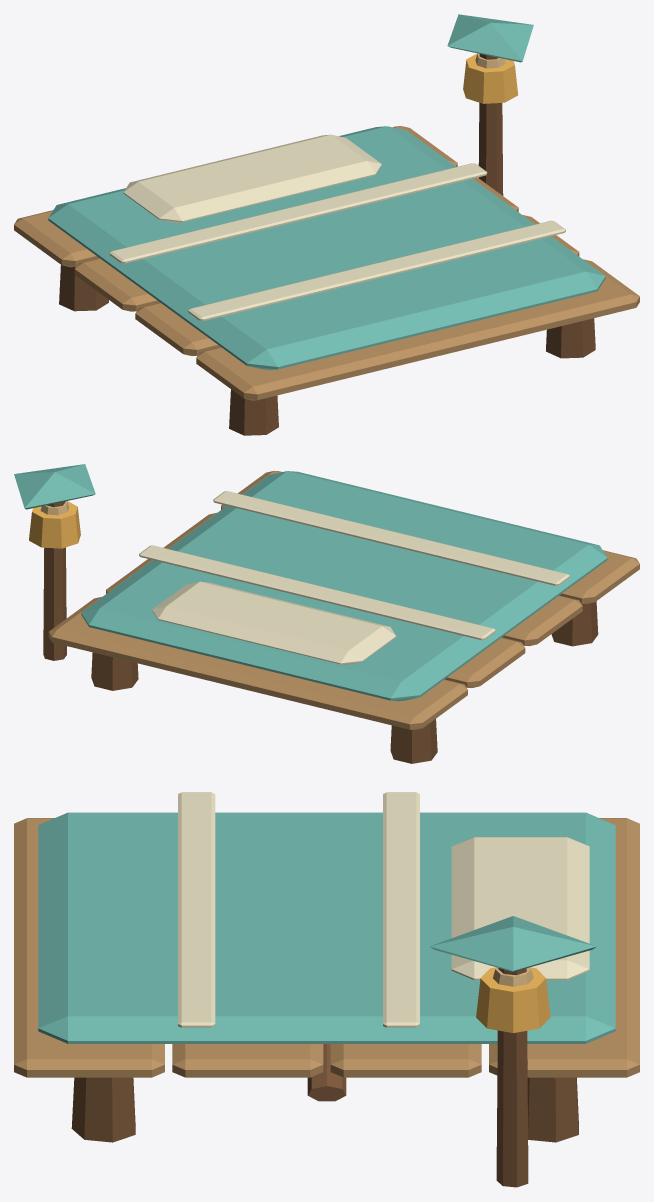
The model's file is CC_AnimalTreatment.fbx.
3 views of the same model, one above another, from view 1: azimuth 30°, elevation 25°; view 2: azimuth 150°, elevation 25°; view 3: azimuth 270°, elevation 25° (orthographic). The views are drawn at different scales.
Parts seen in each view (by area): view 1: Leaf mattress.001, Plank.004, Head cushion.001, Restraint strap, Restraint strap.001, Medical marker.001, Plank.007, Plank.006, Plank.005, Equipment pole.001, Medicine jar.001, Leg.004 (+2 smaller); view 2: Leaf mattress.001, Plank.007, Head cushion.001, Restraint strap.001, Restraint strap, Medical marker.001, Equipment pole.001, Plank.004, Plank.005, Plank.006, Medicine jar.001, Leg.005 (+2 smaller); view 3: Leaf mattress.001, Head cushion.001, Plank.004, Plank.007, Restraint strap, Restraint strap.001, Plank.005, Plank.006, Equipment pole.001, Medical marker.001, Leg.006, Medicine jar.001 (+2 smaller).
Boxes of the visible parts, bbox=[...] form: Leaf mattress.001: bbox=[48, 126, 605, 369]; Plank.004: bbox=[196, 259, 639, 400]; Head cushion.001: bbox=[123, 134, 381, 222]; Restraint strap: bbox=[188, 220, 565, 321]; Restraint strap.001: bbox=[109, 163, 487, 263]; Medical marker.001: bbox=[447, 14, 533, 62]; Plank.007: bbox=[14, 126, 457, 267]; Plank.006: bbox=[74, 177, 518, 311]; Plank.005: bbox=[135, 215, 579, 356]; Equipment pole.001: bbox=[478, 54, 503, 195]; Medicine jar.001: bbox=[463, 53, 518, 103]; Leg.004: bbox=[229, 389, 278, 435]; Leaf mattress.001: bbox=[81, 471, 607, 701]; Plank.007: bbox=[48, 596, 467, 729]; Head cushion.001: bbox=[152, 581, 396, 664]; Restraint strap.001: bbox=[139, 545, 495, 640]; Restraint strap: bbox=[213, 491, 569, 585]; Medical marker.001: bbox=[14, 464, 95, 509]; Equipment pole.001: bbox=[43, 501, 66, 660]; Plank.004: bbox=[221, 470, 639, 604]; Plank.005: bbox=[163, 512, 582, 645]; Plank.006: bbox=[106, 559, 525, 687]; Medicine jar.001: bbox=[29, 501, 80, 548]; Leg.005: bbox=[390, 719, 437, 763]; Leaf mattress.001: bbox=[38, 812, 615, 1043]; Head cushion.001: bbox=[451, 837, 589, 980]; Plank.004: bbox=[14, 818, 164, 1077]; Plank.007: bbox=[489, 818, 639, 1077]; Restraint strap: bbox=[178, 792, 215, 1027]; Restraint strap.001: bbox=[383, 792, 419, 1027]; Plank.005: bbox=[172, 1044, 323, 1077]; Plank.006: bbox=[330, 1044, 481, 1077]; Equipment pole.001: bbox=[496, 968, 528, 1187]; Medical marker.001: bbox=[430, 916, 596, 971]; Leg.006: bbox=[71, 1077, 135, 1142]; Medicine jar.001: bbox=[476, 967, 550, 1033].
Size of the model in its own units: 3.46 by 1.35 by 3.02.
